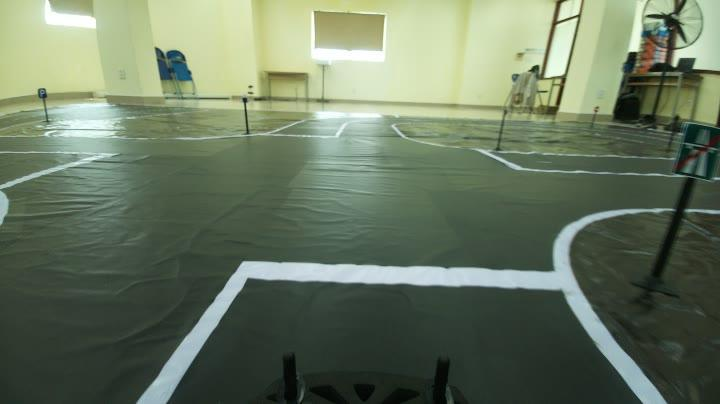highway_exit: (673, 110, 719, 182)
